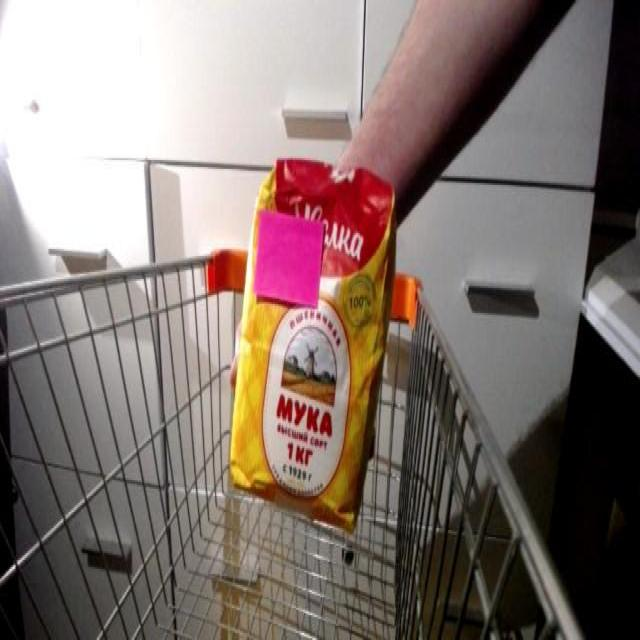Almond Milk: (225, 150, 401, 540)
